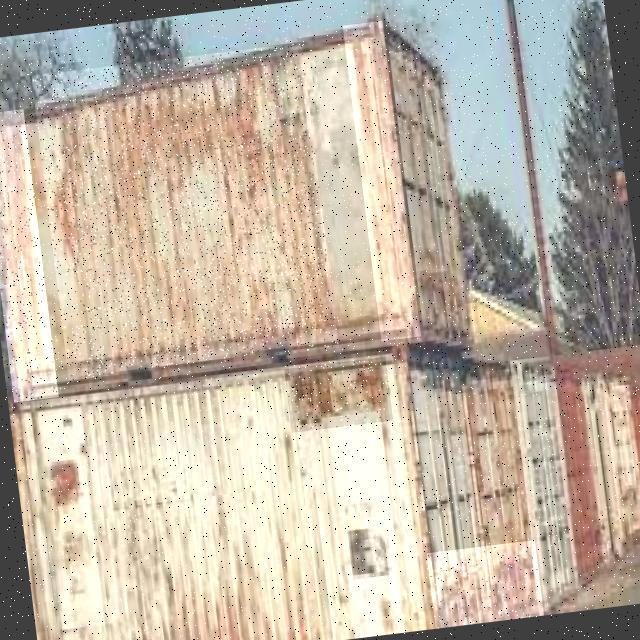Rust: (31, 42, 338, 380), (343, 21, 421, 341), (0, 109, 58, 402), (427, 540, 544, 629), (284, 357, 393, 433)
